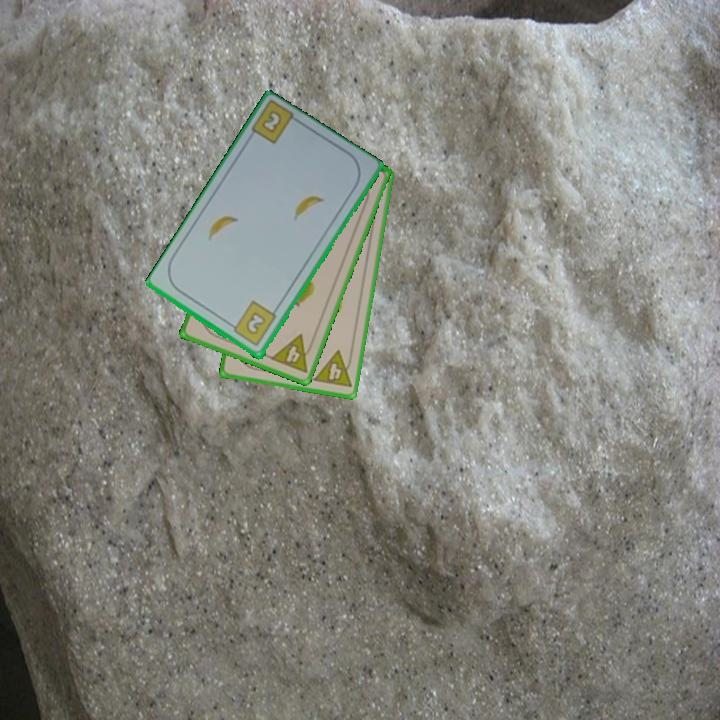2b: (226, 298, 279, 349), (258, 107, 285, 136)
4p: (267, 331, 318, 376), (310, 347, 356, 391)
